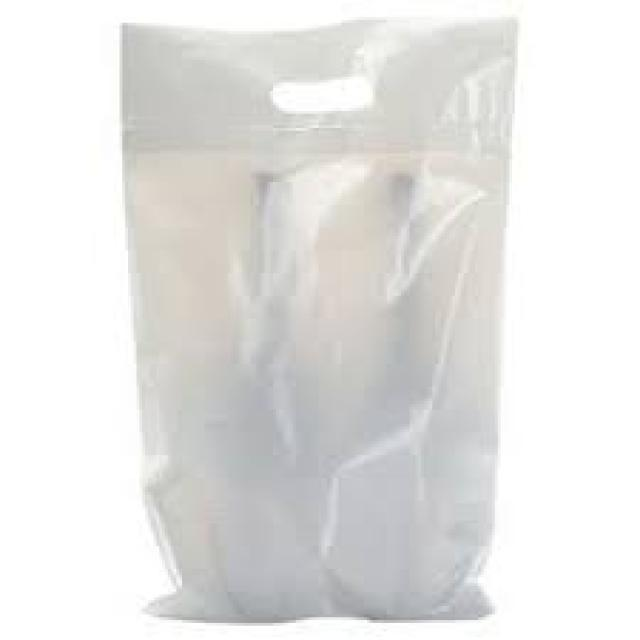plastic: (117, 14, 515, 620)
